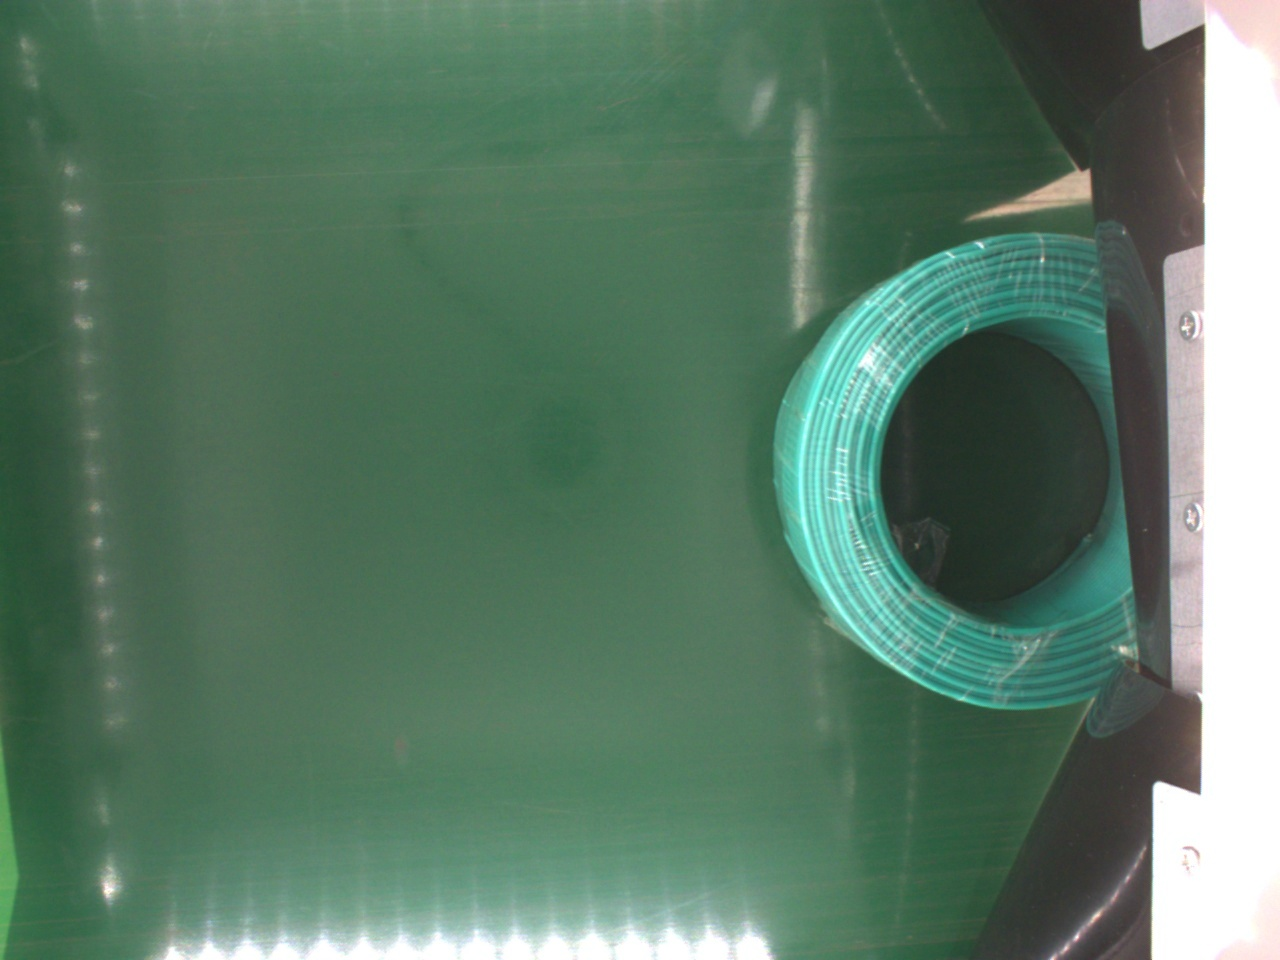green: (770, 229, 1137, 712)
